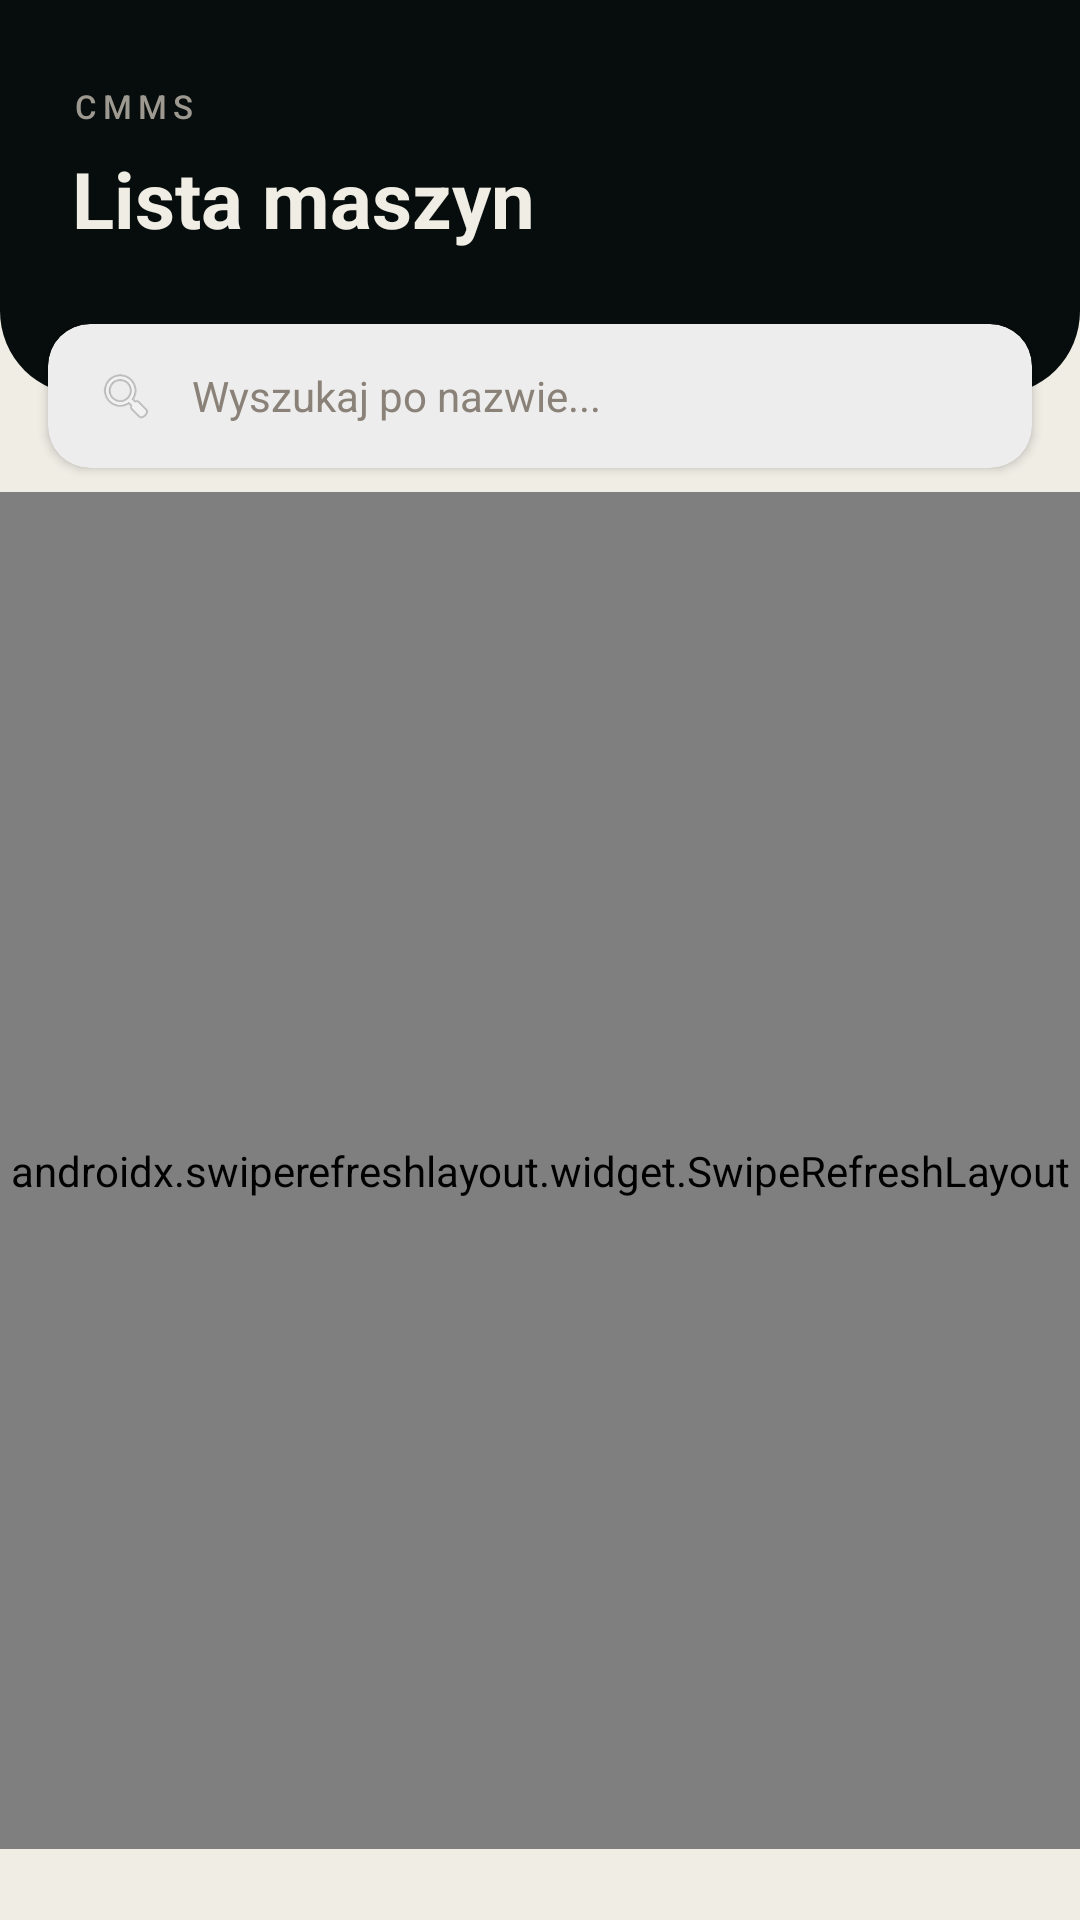

Icon bounding boxes for this 1080*1920 phone screenshot, format (x1, y1, x2, y2):
search: (104, 374, 148, 418)
